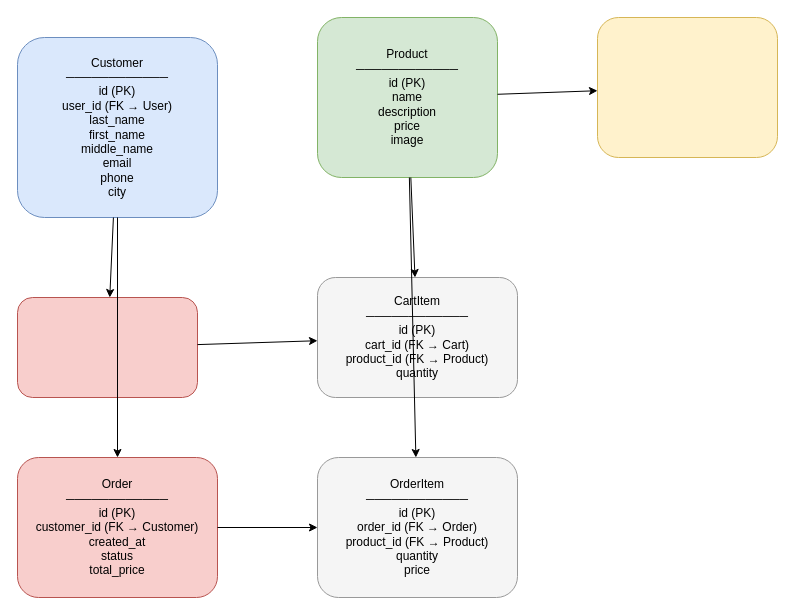
Some shapes in this 795 by 615 pixel diagram are drawn without their labels. The centre of each missing label's shape, as x and y in pixels:
Cart ──────────── id (PK) customer_id (FK → Customer) created_at: point 107,347
Stock ──────────── id (PK) product_id (FK → Product) quantity updated_at: point 687,87
